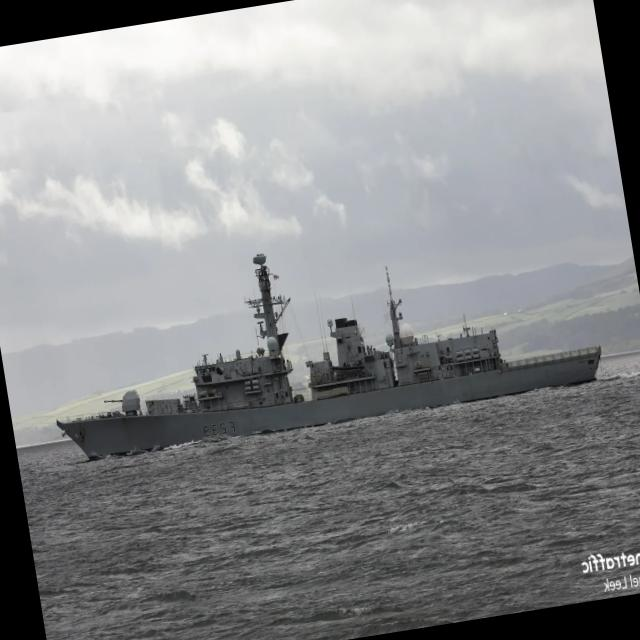Military: (57, 254, 601, 459)
